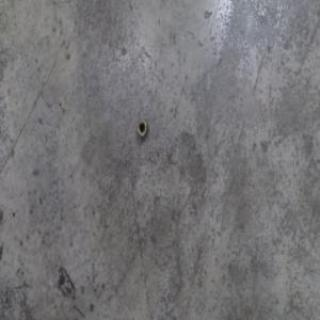Nuttrack_idkeyframe: (135, 117, 148, 139)
